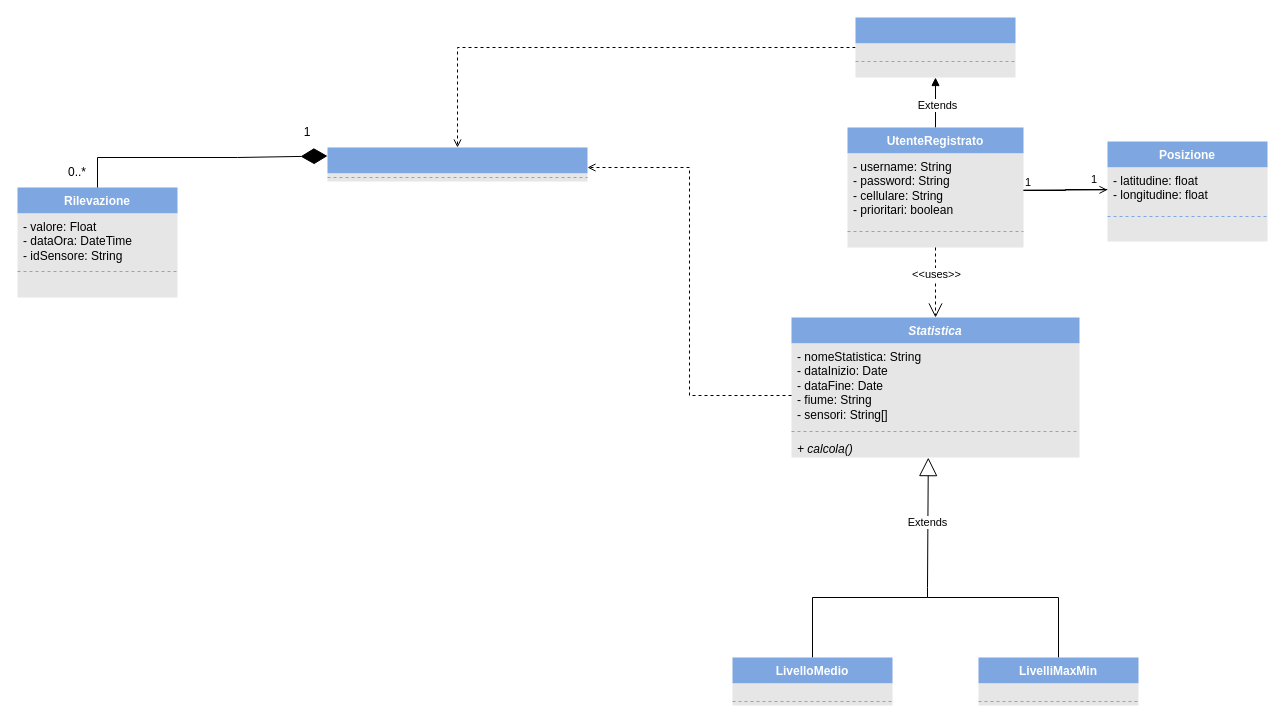
Image size: 1285x723. Some labels were removed from this diagram. Here are the shapes that lost their labels. From the top down, the centre of each, then its label:
point 935,47: Utente
point 457,164: Storico
